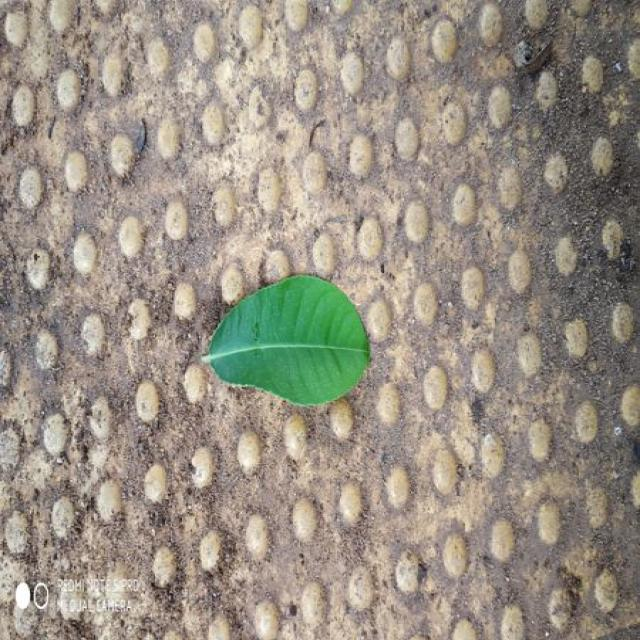badipala: (202, 275, 370, 406)
